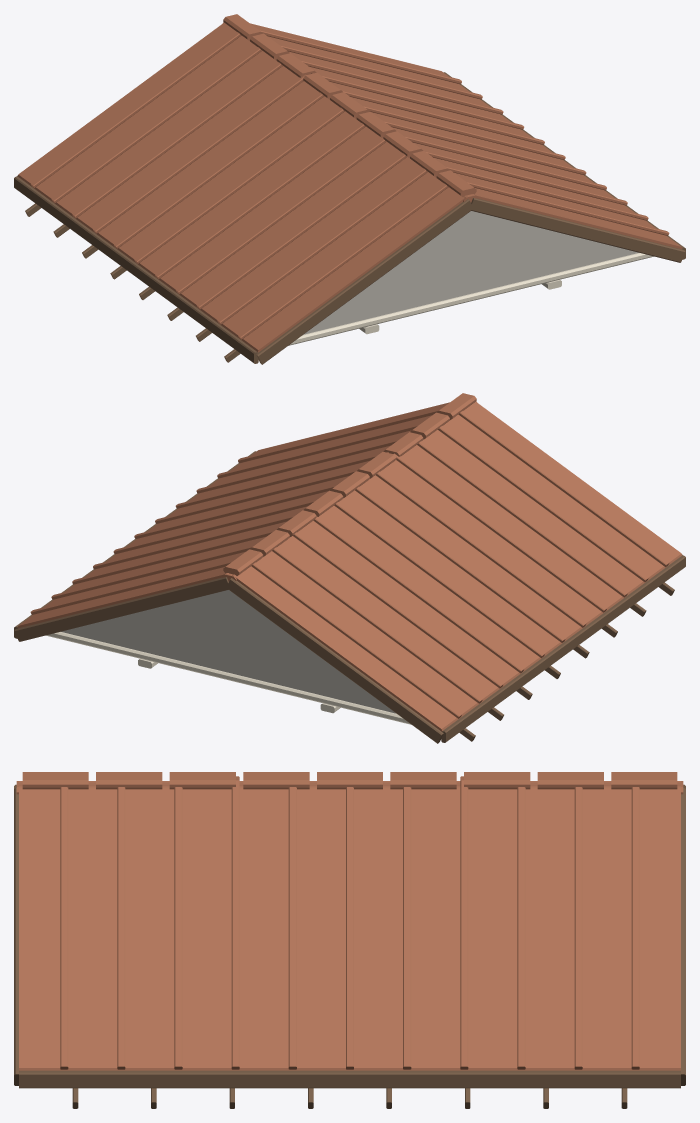
File: wall_roof.glb
3 views of the same model, one above another, from view 1: azimuth 30°, elevation 25°; view 2: azimuth 150°, elevation 25°; view 3: azimuth 270°, elevation 25° (orthographic). The views are drawn at different scales.
Visible parts, largest first — view 1: wall_roof; view 2: wall_roof; view 3: wall_roof.
Part boxes in pixels (bbox=[...]): wall_roof: bbox=[14, 14, 685, 364]; wall_roof: bbox=[14, 393, 685, 743]; wall_roof: bbox=[14, 772, 685, 1108].
Bounding box in the file's own units: 14.03 × 3.97 × 13.17.
